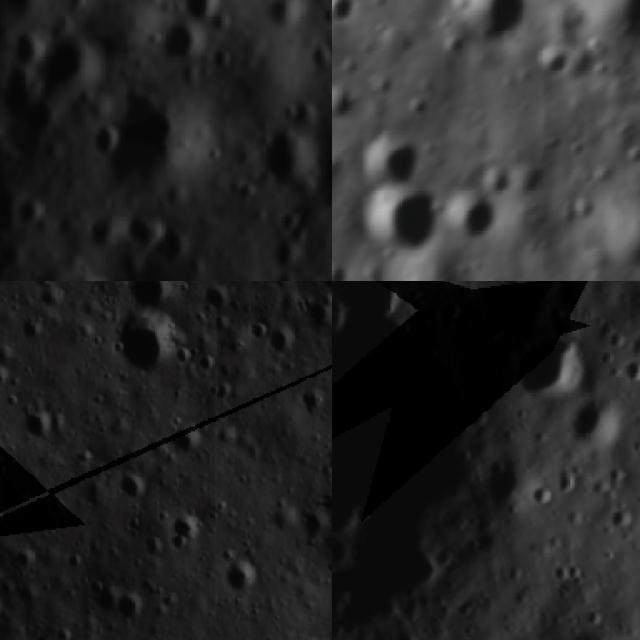crater: (332, 281, 573, 637), (493, 312, 610, 430), (356, 187, 446, 265), (553, 391, 634, 472), (260, 122, 332, 193), (442, 0, 531, 53), (114, 312, 180, 378), (351, 137, 425, 195), (601, 191, 640, 280), (445, 188, 500, 250), (19, 401, 67, 452), (587, 0, 640, 46), (114, 584, 157, 638), (213, 556, 260, 604), (148, 22, 197, 68), (122, 208, 168, 256), (168, 419, 214, 465), (114, 281, 180, 312), (531, 42, 573, 88), (165, 507, 206, 554), (113, 462, 150, 514), (263, 326, 305, 370), (88, 121, 129, 166), (297, 501, 332, 553), (171, 0, 220, 37), (611, 351, 640, 408), (8, 193, 48, 234), (2, 37, 43, 77), (332, 78, 361, 129), (14, 314, 52, 351), (76, 217, 114, 253), (332, 0, 359, 37), (13, 541, 42, 574), (61, 266, 123, 281), (36, 281, 64, 309), (0, 360, 14, 399), (0, 589, 8, 630)
